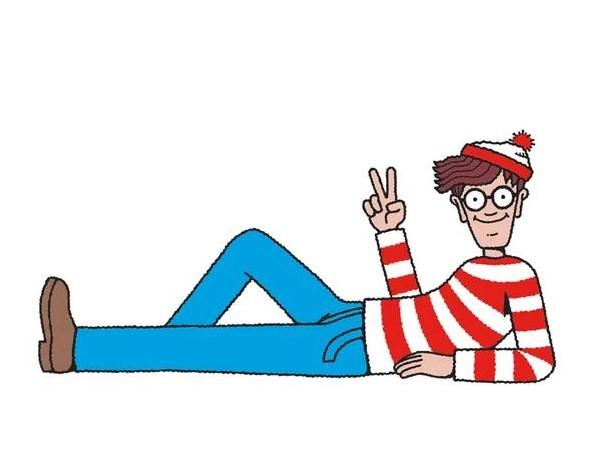waldos: (34, 128, 557, 386)
